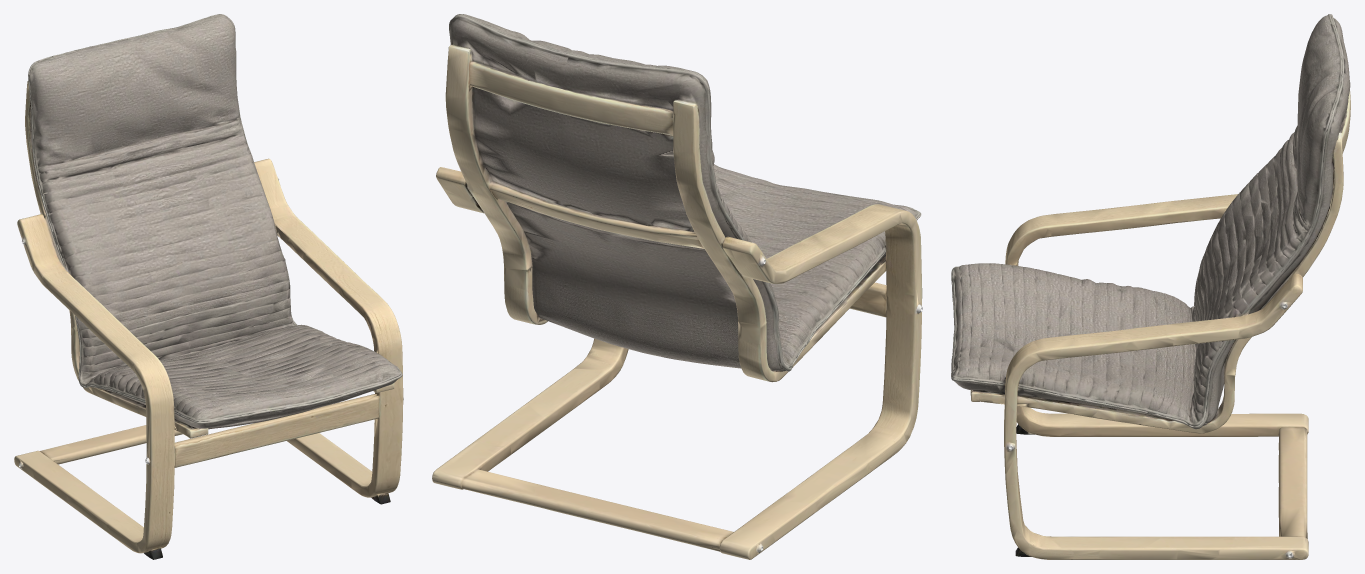
File: poang-armchair.glb
The picture shows the model from 3 angles, left to right: view 1: azimuth 30°, elevation 25°; view 2: azimuth 150°, elevation 25°; view 3: azimuth 270°, elevation 25°; orthographic projection. The views are drawn at different scales.
Visible parts, largest first — view 1: tripo_node_eebe9a5a-9f3c-4df4-96c2-a539186dd797; view 2: tripo_node_eebe9a5a-9f3c-4df4-96c2-a539186dd797; view 3: tripo_node_eebe9a5a-9f3c-4df4-96c2-a539186dd797.
Part boxes in pixels (x1,y1,x2,y2): tripo_node_eebe9a5a-9f3c-4df4-96c2-a539186dd797: [14, 14, 403, 559]; tripo_node_eebe9a5a-9f3c-4df4-96c2-a539186dd797: [432, 14, 922, 559]; tripo_node_eebe9a5a-9f3c-4df4-96c2-a539186dd797: [951, 14, 1350, 559].
Bounding box in the file's own units: 0.6799 × 0.9892 × 0.8314.
1 material, 1 textured.
